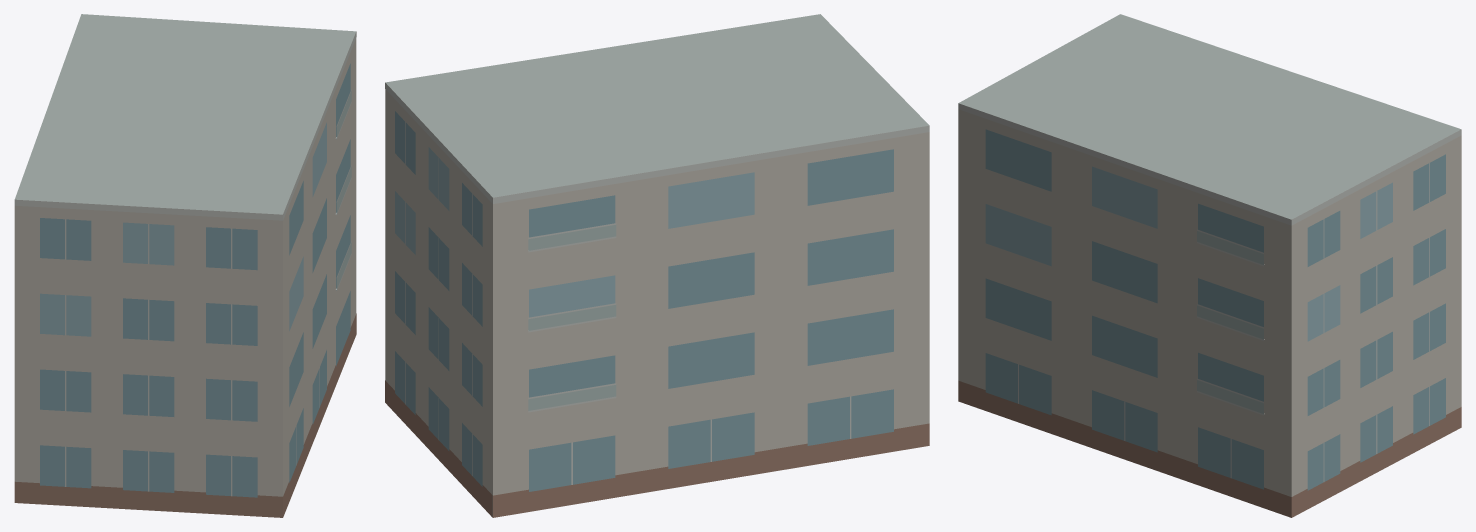
Rendered from survey-upis-32884753.glb.
3 renders of one model, left to right at view 1: azimuth 30°, elevation 25°; view 2: azimuth 150°, elevation 25°; view 3: azimuth 270°, elevation 25°, orthographic. The views are drawn at different scales.
Parts seen in each view (by area): view 1: survey-upis-32884753.tmp; view 2: survey-upis-32884753.tmp; view 3: survey-upis-32884753.tmp.
Part boxes in pixels (box(x1,y1,x2,y2)): survey-upis-32884753.tmp: box(14, 14, 356, 517); survey-upis-32884753.tmp: box(385, 14, 929, 517); survey-upis-32884753.tmp: box(958, 14, 1461, 517).
Size of the model in its own units: 18.06 by 12.2 by 18.67.
